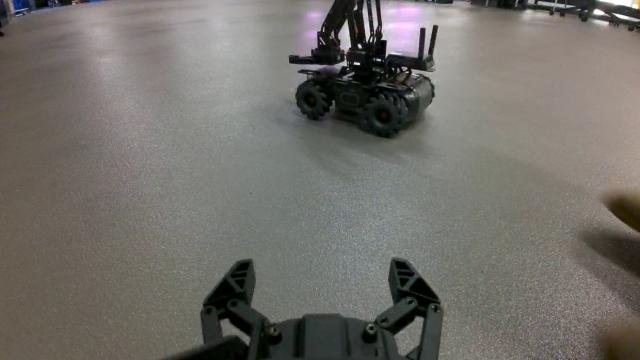robot: (288, 0, 439, 139)
